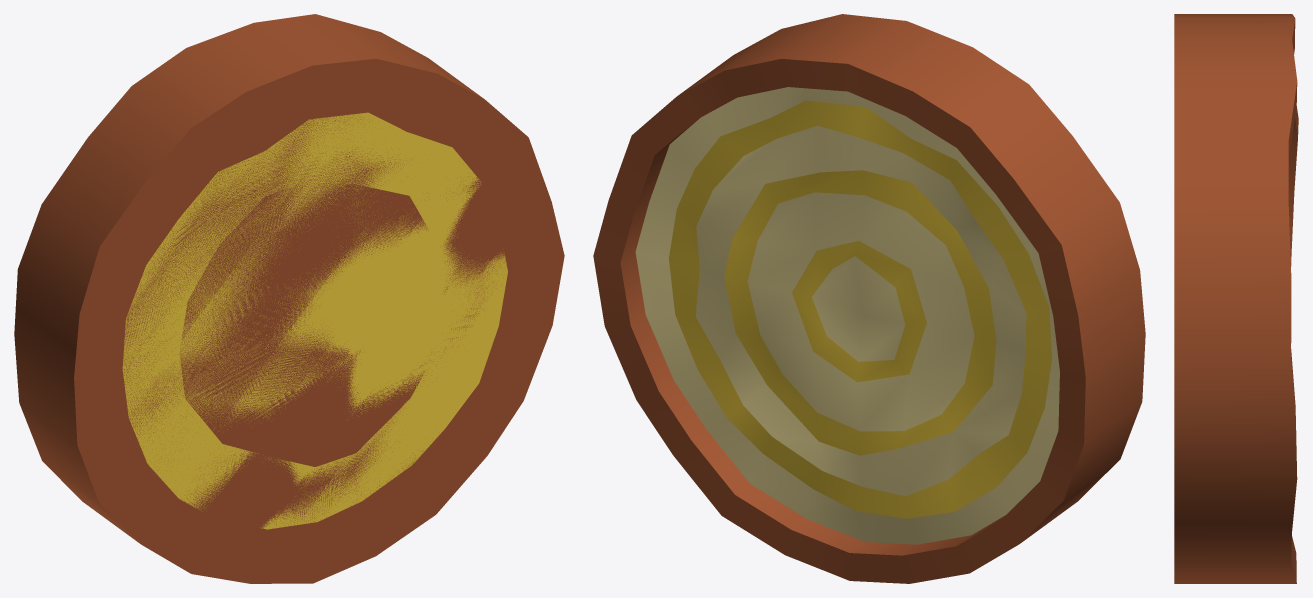
File: Log Boss Whole.fbx
3 views of the same model, side by side, from view 1: azimuth 30°, elevation 25°; view 2: azimuth 150°, elevation 25°; view 3: azimuth 270°, elevation 25° (orthographic).
Visible parts, largest first — view 1: Log Layer 2, Log Layer 1, Log Core; view 2: Log Layer 2, Log Layer 1, Log Core; view 3: Log Layer 2.
Boxes of the visible parts, left/top/right/bottom form: Log Layer 2: left=14, top=14, right=564, bottom=583; Log Layer 1: left=122, top=112, right=507, bottom=529; Log Core: left=179, top=182, right=447, bottom=466; Log Layer 2: left=593, top=14, right=1145, bottom=583; Log Layer 1: left=669, top=100, right=1052, bottom=518; Log Core: left=724, top=170, right=996, bottom=455; Log Layer 2: left=1174, top=14, right=1298, bottom=583.
Size of the model in its own units: 2.55 by 2.57 by 0.556.
